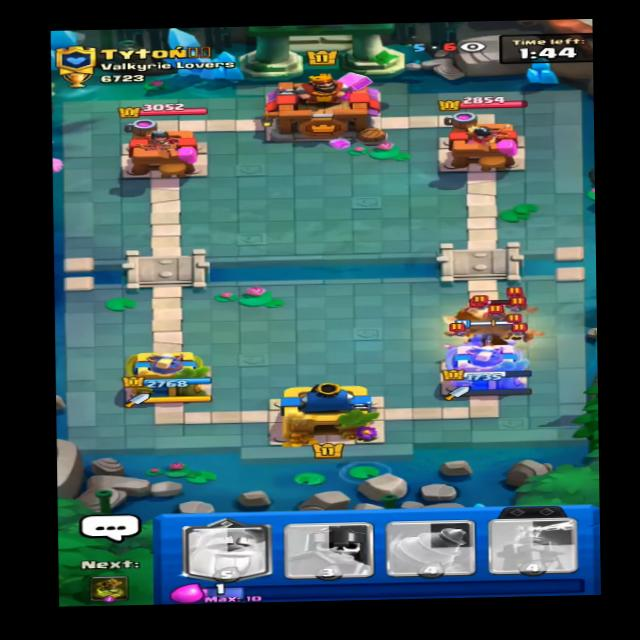bats: (512, 249, 546, 270), (501, 320, 537, 338), (469, 291, 501, 310), (503, 297, 536, 314), (442, 319, 470, 338), (486, 307, 510, 321)
